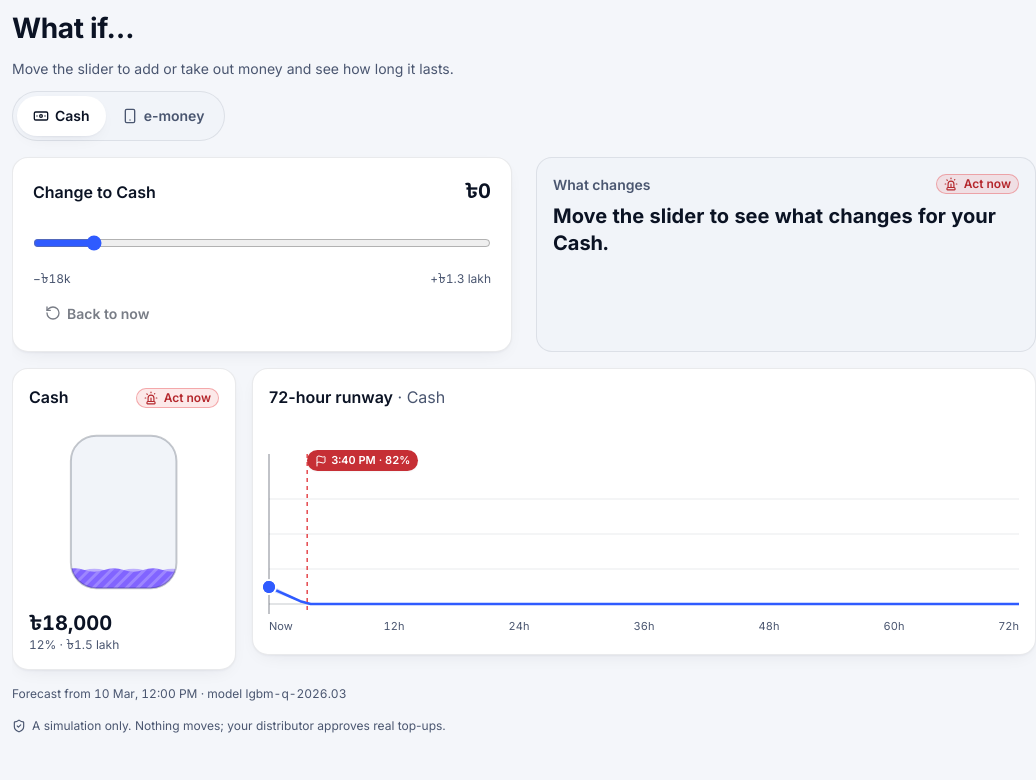
Test: what-if page › asks the backend once, 300 ms after the slider settles, then states the result
Expected: the text with test id "whatif-result" shows "Move the slider", [553,204,996,255]
Set the slider to "5000" at point(109, 243), box [33,221,491,265]
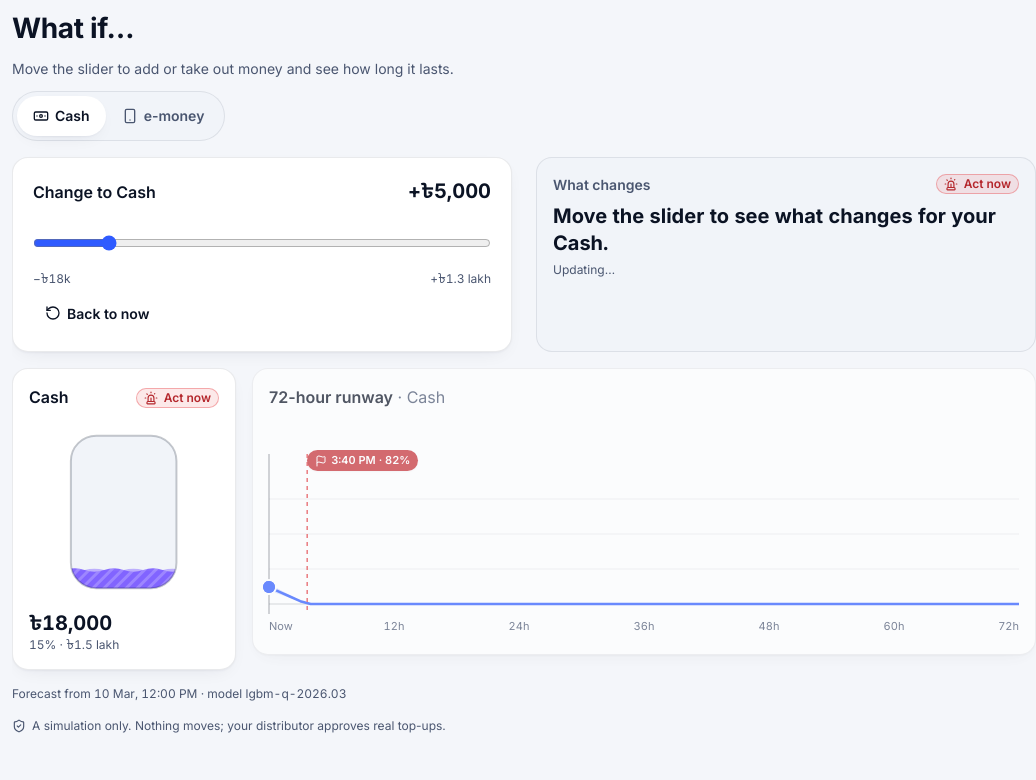
Set the slider to "10000" at point(124, 243), box [33,221,491,265]
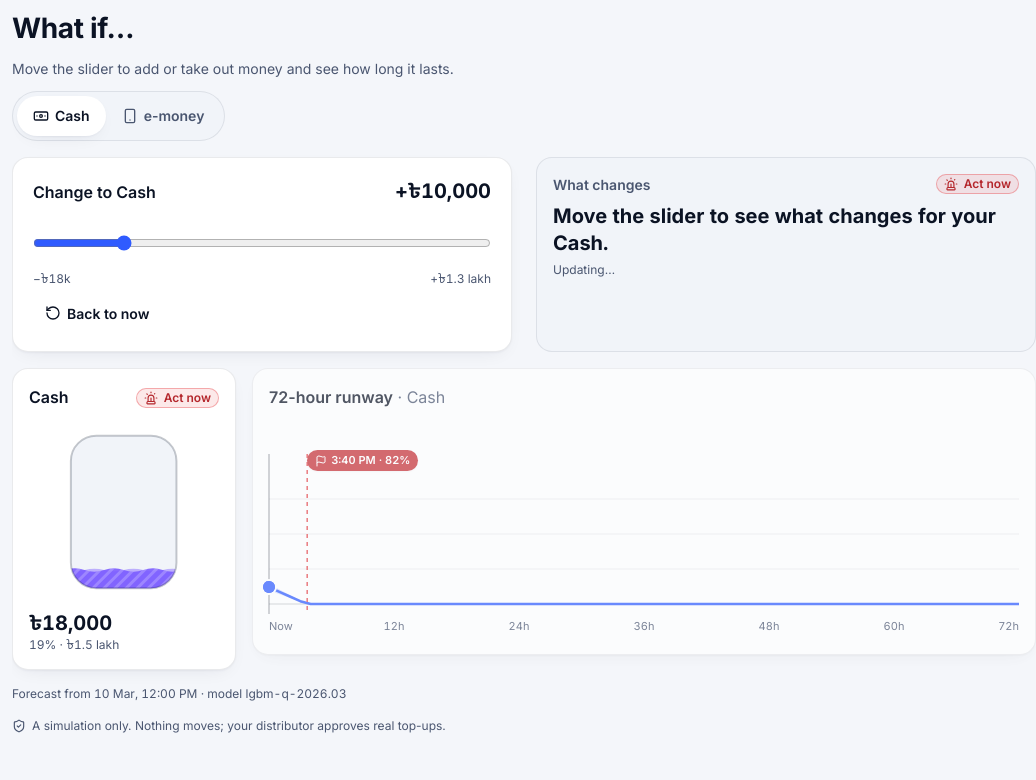
Set the slider to "20000" at point(153, 243), box [33,221,491,265]
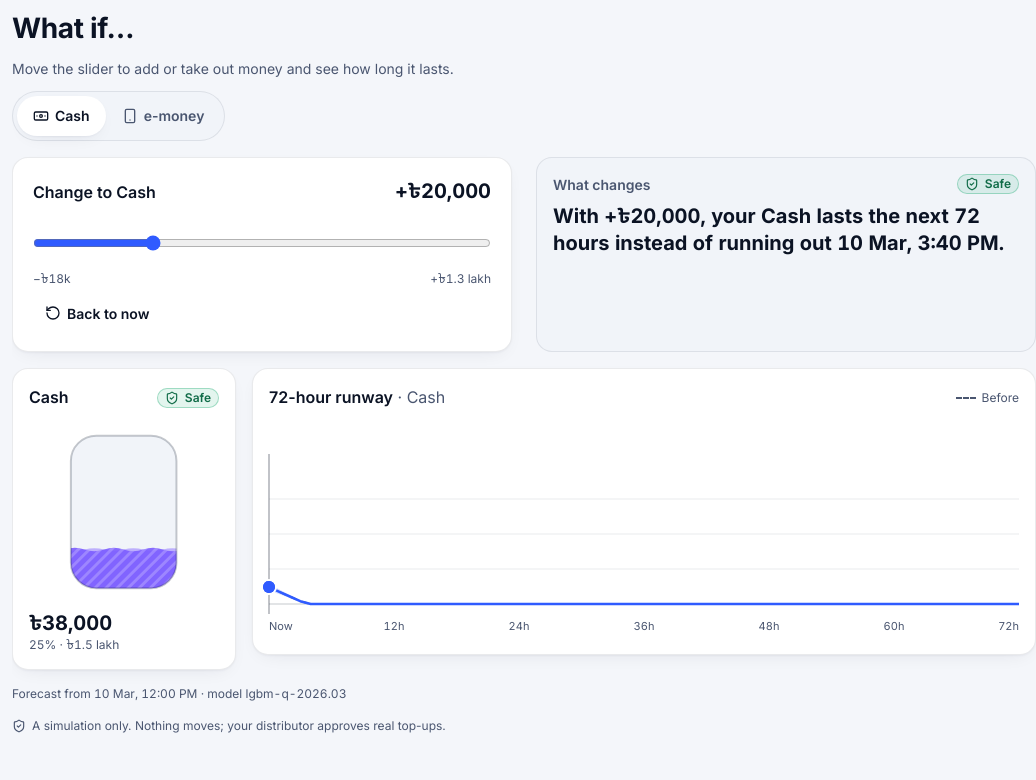
Result: the text with test id "whatif-delta" shows "20,000" at [395,179,491,203]
Result: the text with test id "whatif-result" shows "lasts the next 72 hours instead of running out 10 Mar, 3:40 PM" at [553,204,1004,255]
